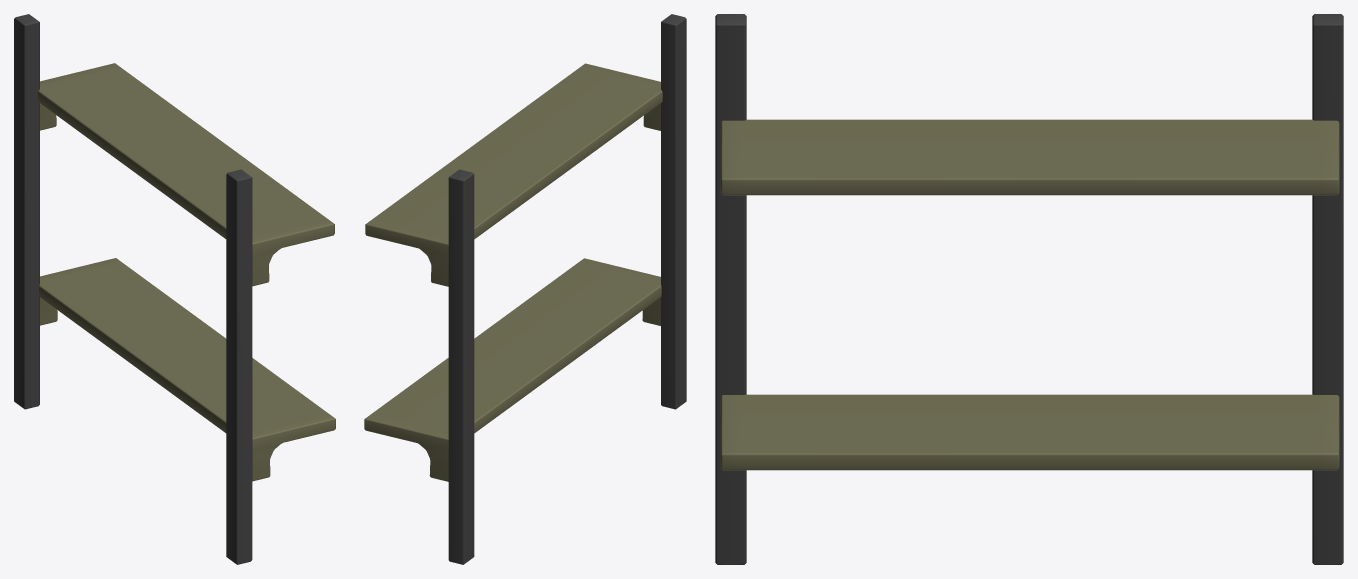
File: ESTANTE DE SALA.fbx
3 renders of one model, left to right at view 1: azimuth 30°, elevation 25°; view 2: azimuth 150°, elevation 25°; view 3: azimuth 270°, elevation 25°, orthographic. The views are drawn at different scales.
Visible parts, largest first — view 1: estante_de_sala; view 2: estante_de_sala; view 3: estante_de_sala.
Part boxes in pixels (left/top/right/bottom): estante_de_sala: left=14, top=14, right=335, bottom=564; estante_de_sala: left=364, top=14, right=686, bottom=564; estante_de_sala: left=715, top=14, right=1343, bottom=564.
Size of the model in its own units: 39.47 by 143 by 150.
